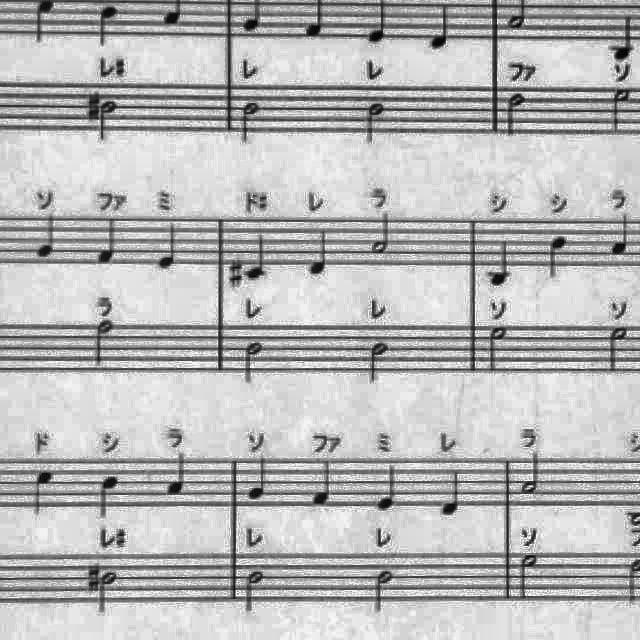Diez: (85, 560, 103, 600), (227, 256, 245, 290), (87, 89, 103, 123)
Half-note: (484, 322, 512, 378), (604, 322, 632, 378), (610, 84, 638, 138), (371, 566, 399, 618), (91, 318, 119, 370), (237, 99, 266, 149), (518, 551, 544, 605), (366, 337, 394, 387), (240, 567, 268, 617), (502, 88, 528, 140), (369, 209, 395, 259), (519, 447, 545, 497), (98, 568, 122, 620), (362, 99, 386, 149), (242, 338, 266, 387), (96, 100, 120, 148)
Quarter-note: (608, 8, 640, 64), (485, 236, 515, 292), (162, 450, 194, 502), (439, 465, 468, 521), (29, 466, 59, 520), (94, 470, 125, 522), (94, 212, 122, 268), (374, 460, 402, 514), (93, 1, 123, 51), (32, 210, 60, 262), (242, 230, 270, 282), (244, 454, 272, 506), (544, 230, 572, 282), (310, 458, 338, 510), (606, 211, 634, 261), (426, 2, 452, 54), (156, 220, 182, 272), (306, 225, 330, 279)
